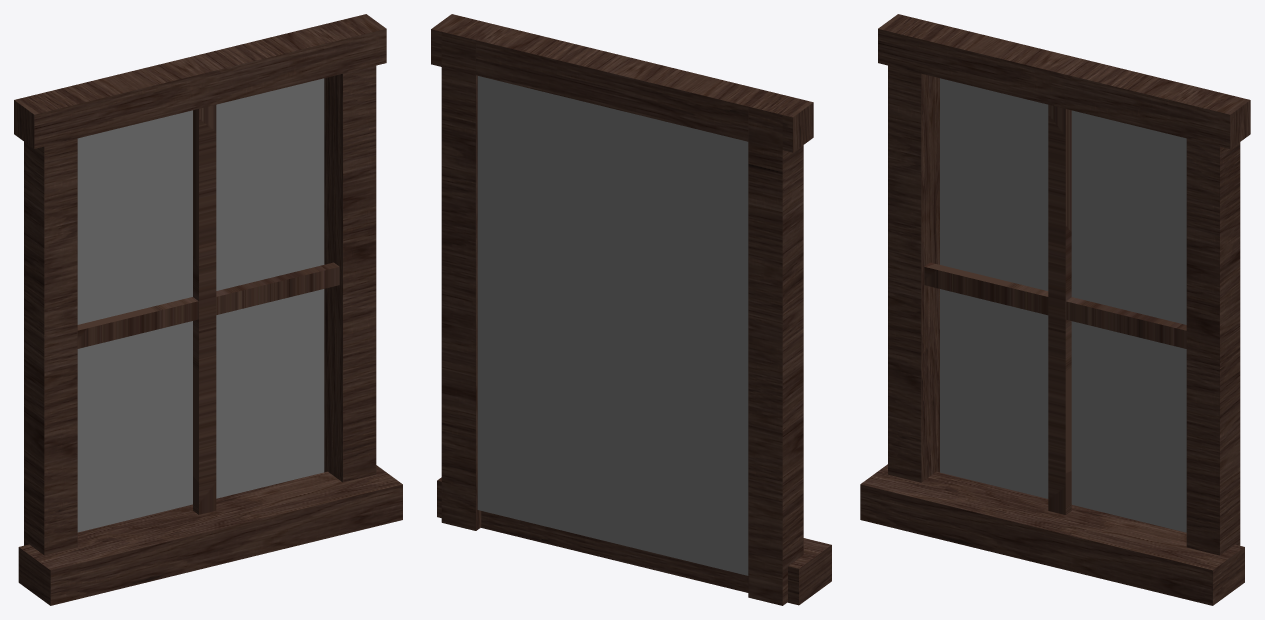
Rendered from MSH_Window.fbx.
The picture shows the model from 3 angles, left to right: view 1: azimuth 30°, elevation 25°; view 2: azimuth 150°, elevation 25°; view 3: azimuth 330°, elevation 25°; orthographic projection. The views are drawn at different scales.
Parts seen in each view (by area): view 1: fenetre_gauche, Plane001; view 2: Plane001, fenetre_gauche; view 3: fenetre_gauche, Plane001.
Part boxes in pixels (x1=…): fenetre_gauche: x1=14, y1=14, x2=402, y2=605; Plane001: x1=77, y1=78, x2=324, y2=532; Plane001: x1=477, y1=76, x2=748, y2=575; fenetre_gauche: x1=431, y1=14, x2=831, y2=605; fenetre_gauche: x1=860, y1=14, x2=1250, y2=605; Plane001: x1=940, y1=78, x2=1186, y2=532.
Size of the model in its own units: 1.69 by 2.19 by 0.3088.
